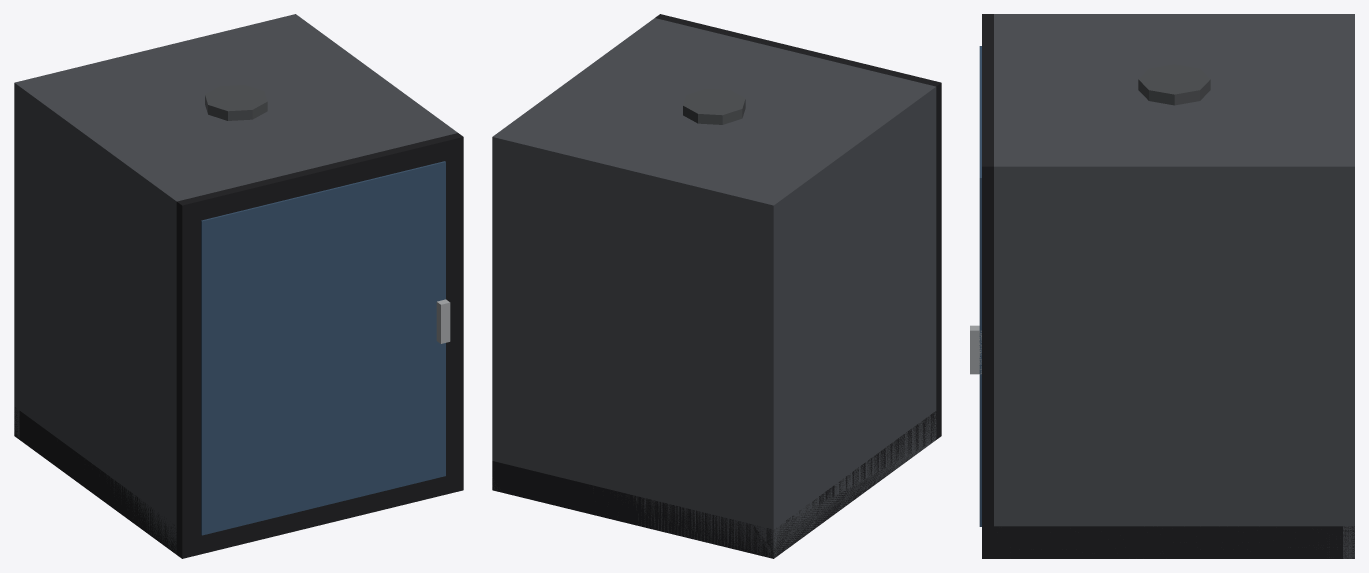
The model's file is dc.rack-12u.glb.
3 renders of one model, left to right at view 1: azimuth 30°, elevation 25°; view 2: azimuth 150°, elevation 25°; view 3: azimuth 270°, elevation 25°, orthographic. The views are drawn at different scales.
Visible parts, largest first — view 1: door-glass, side-1, top, door-frame, base, back, fan, side1, lock; view 2: back, side-1, top, base, side1, door-frame, fan; view 3: side1, top, base, door-frame, back, fan, side-1, door-glass, lock.
Part boxes in pixels (box(x1,y1,x2,y2)): door-glass: box(201, 161, 445, 535); side-1: box(19, 81, 185, 552); top: box(14, 20, 448, 207); door-frame: box(176, 133, 463, 558); base: box(14, 407, 176, 554); back: box(14, 14, 300, 439); fan: box(205, 84, 267, 120); side1: box(290, 17, 457, 134); lock: box(436, 299, 450, 343); back: box(492, 133, 779, 557); side-1: box(764, 84, 936, 555); top: box(493, 20, 936, 212); base: box(492, 411, 936, 558); side1: box(492, 18, 663, 489); door-frame: box(655, 14, 941, 439); fan: box(683, 88, 745, 124); side1: box(994, 161, 1353, 557); top: box(994, 19, 1354, 177); base: box(994, 526, 1354, 558); door-frame: box(982, 14, 993, 558); back: box(1343, 14, 1354, 558); fan: box(1138, 64, 1210, 105); side-1: box(994, 14, 1354, 18); door-glass: box(979, 46, 981, 526); lock: box(970, 325, 981, 374).
Size of the model in its own units: 0.6 by 0.74 by 0.64.
